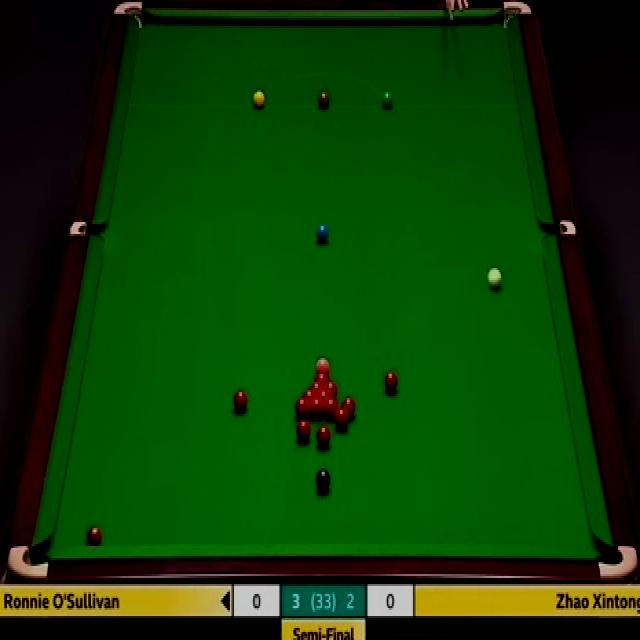black-ball: (316, 468, 332, 494)
blue-ball: (316, 224, 329, 243)
brown-ball: (317, 91, 330, 110)
green-ball: (381, 90, 394, 110)
pink-ball: (315, 356, 329, 368)
red-ball: (85, 522, 103, 545), (232, 390, 248, 415), (316, 425, 331, 449), (296, 420, 312, 442), (324, 397, 339, 420), (384, 371, 398, 395), (294, 396, 309, 418), (334, 408, 348, 431), (342, 396, 356, 419), (309, 396, 323, 418), (325, 380, 338, 396), (312, 370, 330, 380), (308, 380, 324, 390), (316, 389, 332, 397), (302, 389, 316, 398)
white-ball: (487, 265, 503, 293)
yellow-ball: (252, 91, 264, 109)
